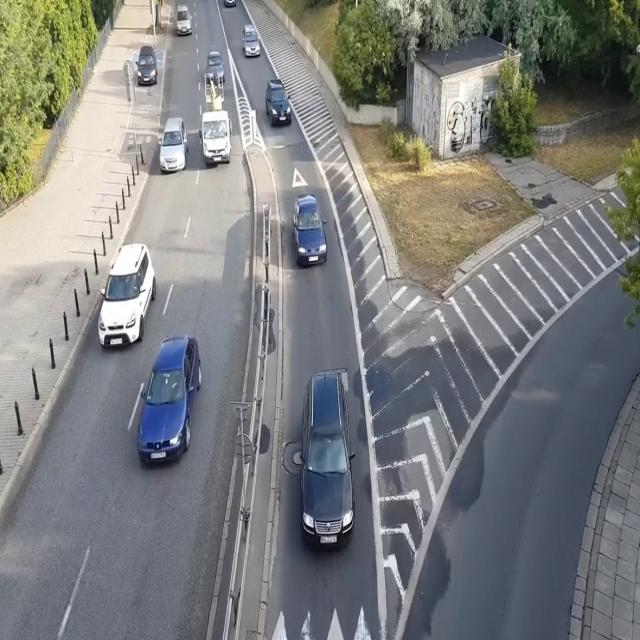car: (298, 368, 357, 550), (136, 332, 202, 471), (97, 243, 157, 351), (291, 191, 328, 267), (158, 115, 188, 174), (264, 78, 292, 126), (135, 46, 158, 86), (207, 48, 224, 83), (242, 24, 260, 57), (175, 4, 192, 36), (222, 0, 236, 7)
truck: (198, 75, 233, 164)
